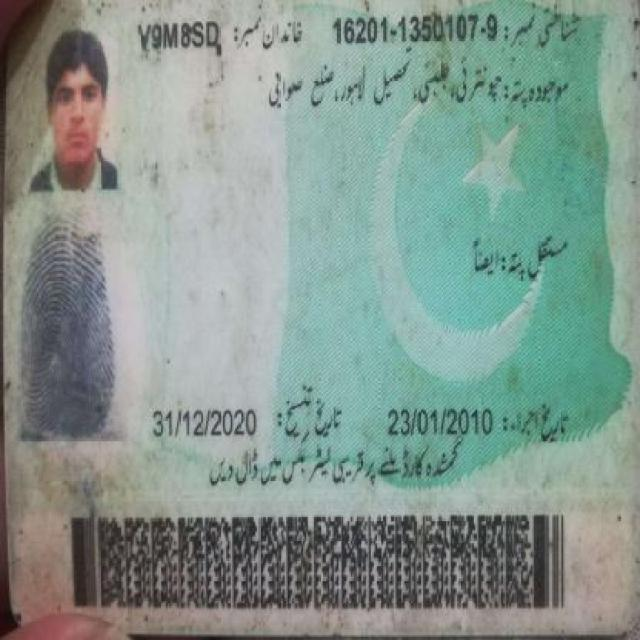Back: (13, 3, 604, 620)
